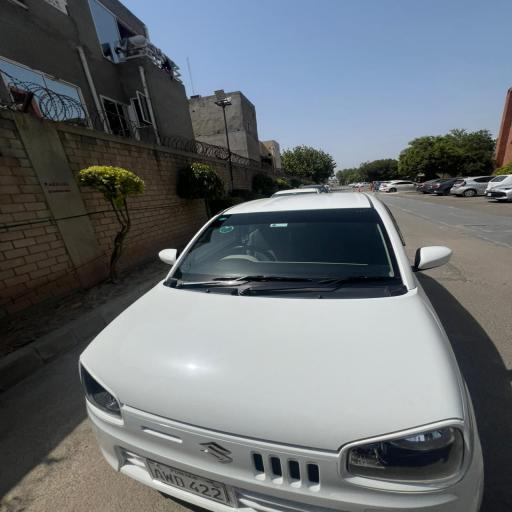bnu_sticker: (218, 226, 235, 234)
